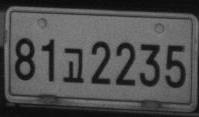1: (40, 38, 60, 82)
2: (114, 41, 135, 86), (90, 40, 110, 84)
3: (139, 43, 161, 87)
5: (165, 44, 187, 88)
8: (14, 36, 36, 81)
고: (62, 47, 84, 83)
